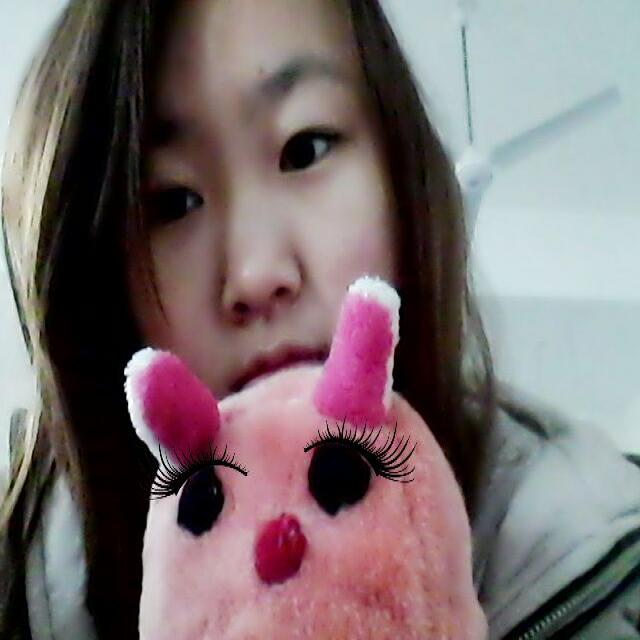nomask: (103, 1, 415, 487)
